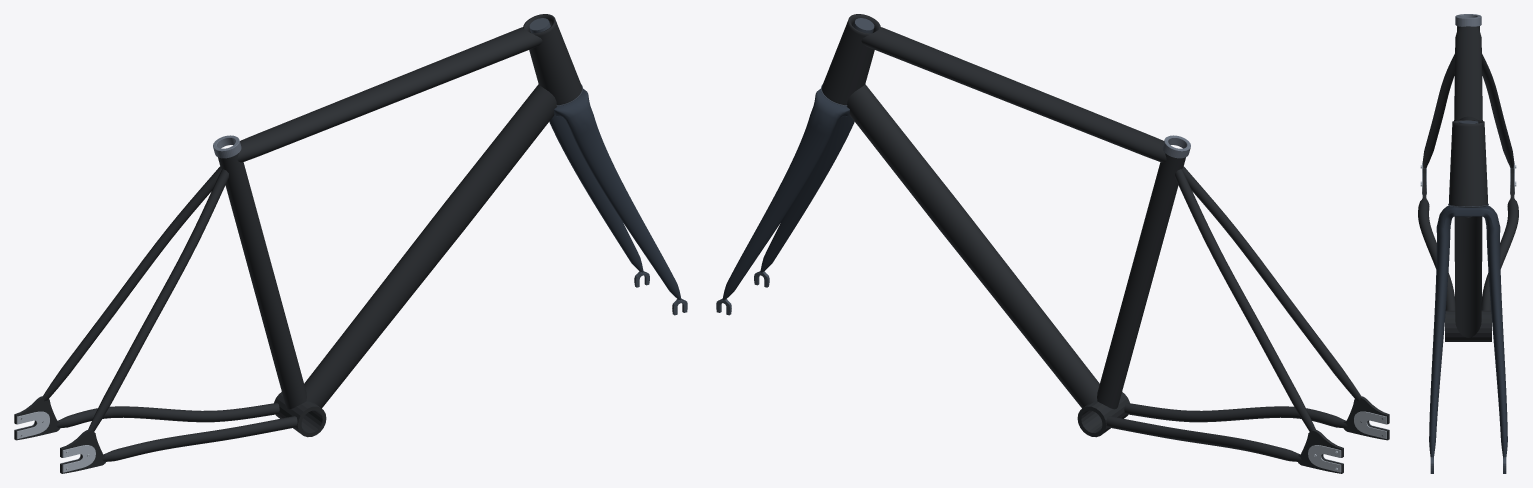
File: 8bar-krzberg-v8-s.glb
3 views of the same model, side by side, from view 1: azimuth 30°, elevation 25°; view 2: azimuth 150°, elevation 25°; view 3: azimuth 270°, elevation 25° (orthographic). The views are drawn at different scales.
Visible parts, largest first — view 1: paint_down, paint_top, paint_seat, fork_blade_1, paint_seatstay_1, paint_seatstay_-1, paint_head, paint_chainstay_-1, fork_blade_-1, paint_chainstay_1, paint_bottom_bracket, fork_crown (+2 smaller); view 2: paint_down, paint_top, paint_seat, fork_blade_-1, paint_seatstay_-1, paint_seatstay_1, paint_head, paint_chainstay_1, fork_blade_1, paint_chainstay_-1, paint_bottom_bracket, fork_crown (+2 smaller); view 3: paint_down, paint_head, paint_top, fork_blade_1, fork_blade_-1, paint_seatstay_-1, paint_seatstay_1, paint_chainstay_-1, paint_chainstay_1, paint_bottom_bracket, fork_crown, seat_collar (+2 smaller).
Boxes of the visible parts, x1,y1,x2,y2 form: paint_down: [304, 84, 556, 408]; paint_top: [237, 27, 542, 162]; paint_seat: [218, 153, 306, 409]; fork_blade_1: [570, 116, 681, 300]; paint_seatstay_1: [87, 169, 228, 431]; paint_seatstay_-1: [42, 166, 221, 401]; paint_head: [523, 14, 582, 105]; paint_chainstay_-1: [56, 403, 279, 427]; fork_blade_-1: [549, 115, 643, 272]; paint_chainstay_1: [102, 416, 297, 461]; paint_bottom_bracket: [274, 392, 326, 437]; fork_crown: [554, 88, 593, 128]; paint_down: [847, 84, 1099, 408]; paint_top: [861, 27, 1166, 162]; paint_seat: [1097, 153, 1185, 409]; fork_blade_-1: [722, 116, 833, 300]; paint_seatstay_-1: [1175, 169, 1316, 431]; paint_seatstay_1: [1182, 166, 1361, 401]; paint_head: [821, 14, 880, 105]; paint_chainstay_1: [1124, 403, 1347, 427]; fork_blade_1: [760, 115, 854, 272]; paint_chainstay_-1: [1106, 416, 1301, 461]; paint_bottom_bracket: [1077, 392, 1129, 437]; fork_crown: [810, 88, 849, 128]; paint_down: [1454, 216, 1482, 337]; paint_head: [1449, 120, 1487, 206]; paint_top: [1454, 26, 1482, 120]; fork_blade_1: [1429, 227, 1450, 457]; fork_blade_-1: [1486, 227, 1507, 457]; paint_seatstay_-1: [1482, 54, 1513, 168]; paint_seatstay_1: [1423, 54, 1454, 168]; paint_chainstay_-1: [1481, 196, 1518, 310]; paint_chainstay_1: [1418, 196, 1455, 310]; paint_bottom_bracket: [1445, 310, 1491, 341]; fork_crown: [1437, 205, 1499, 228]; seat_collar: [1455, 14, 1481, 26].
Size of the model in its own units: 1.01 by 0.5363 by 0.1464.
